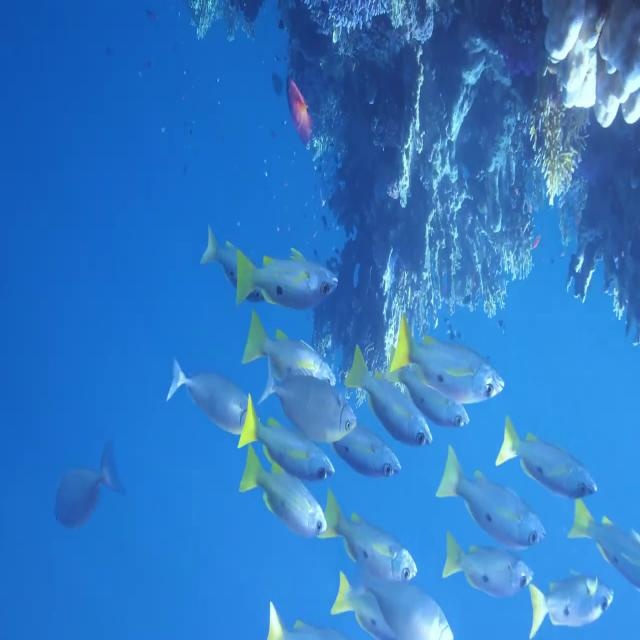fish: (436, 452, 550, 548), (386, 323, 508, 405), (324, 492, 420, 588), (335, 571, 451, 640), (348, 354, 432, 449), (169, 350, 261, 436), (237, 404, 337, 482), (263, 362, 357, 442), (239, 450, 326, 536), (498, 429, 598, 500), (235, 248, 339, 313), (565, 502, 640, 590), (56, 438, 124, 530), (526, 576, 614, 640), (443, 538, 533, 598), (332, 418, 402, 481)
